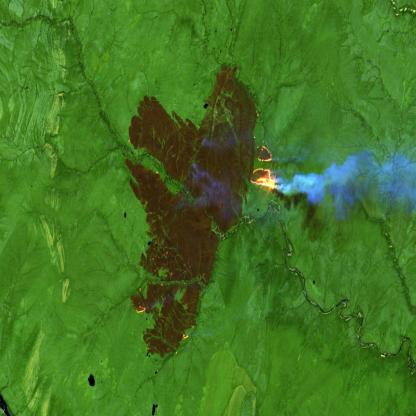fire: (248, 140, 280, 198), (132, 296, 158, 318)
